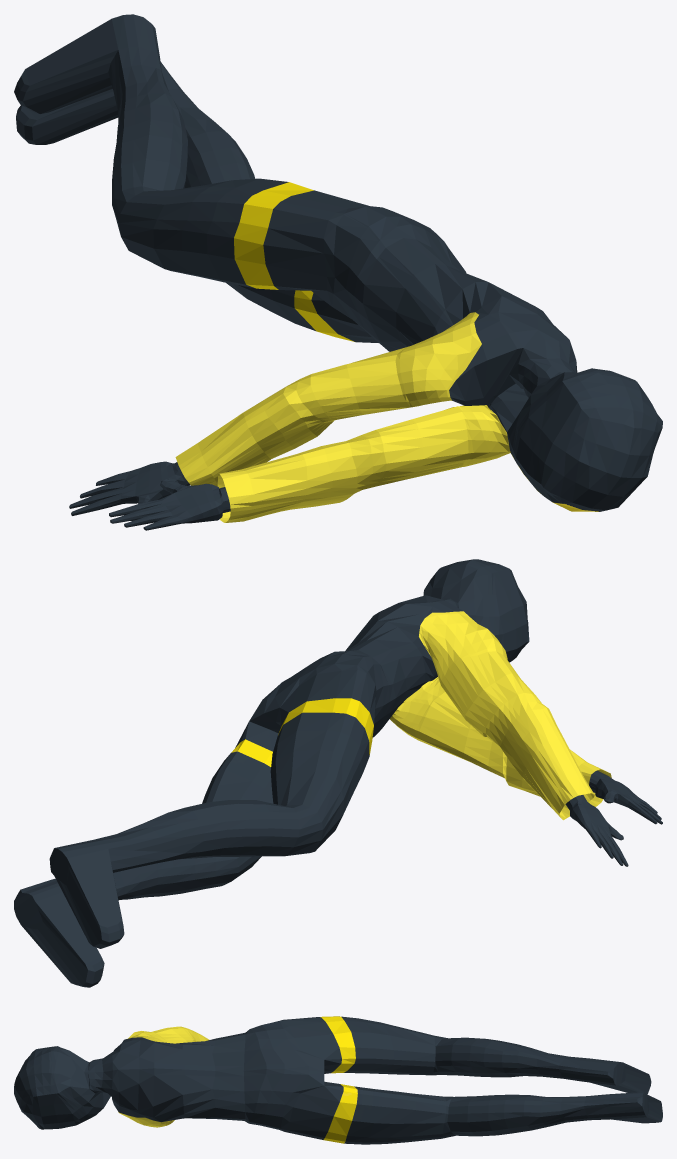
Rendered from Sentry_Die_000014.obj.
3 views of the same model, one above another, from view 1: azimuth 30°, elevation 25°; view 2: azimuth 150°, elevation 25°; view 3: azimuth 270°, elevation 25° (orthographic). The views are drawn at different scales.
Visible parts, largest first — view 1: Cube; view 2: Cube; view 3: Cube.
Part boxes in pixels (x1,y1,x2,y2): Cube: (14, 14, 662, 530); Cube: (14, 559, 662, 987); Cube: (14, 1016, 662, 1144).
Bounding box in the file's own units: 1.72 × 0.7853 × 3.96.
